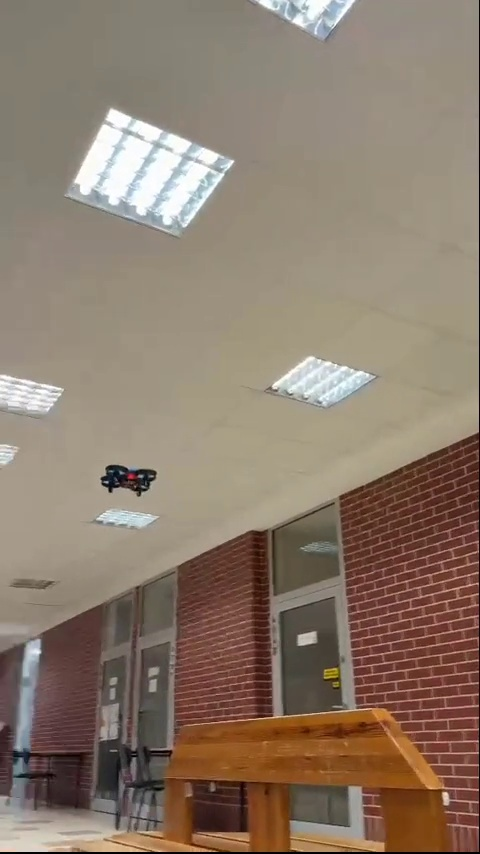drone: (103, 458, 157, 499)
